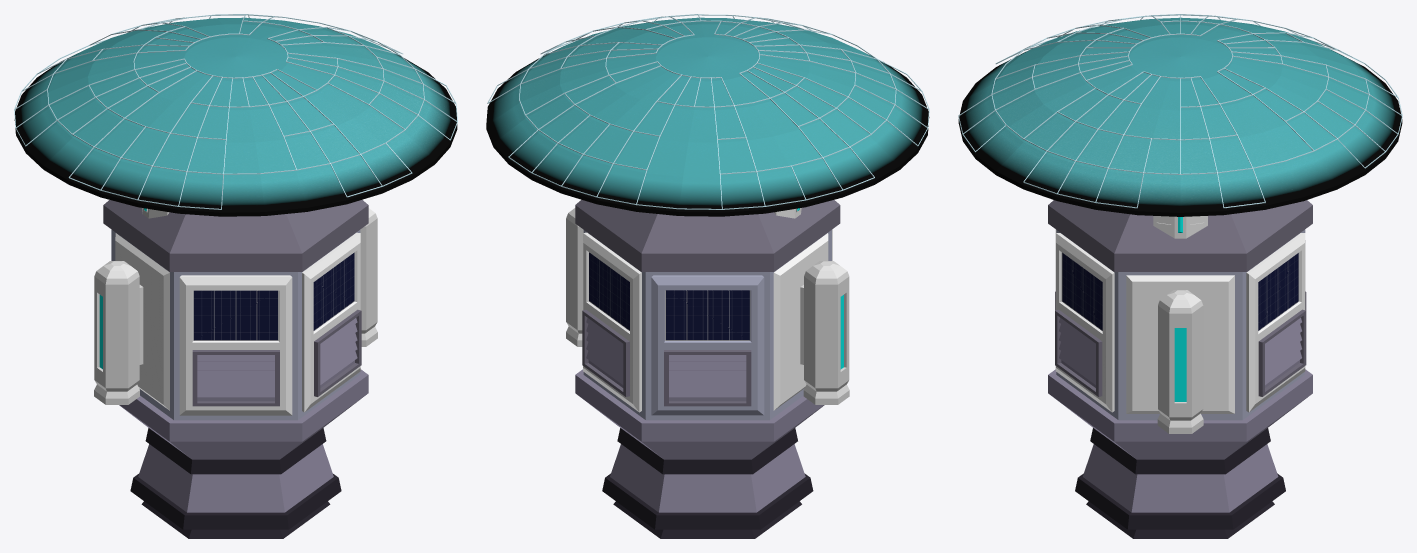
File: защитник.fbx
The picture shows the model from 3 angles, left to right: view 1: azimuth 30°, elevation 25°; view 2: azimuth 150°, elevation 25°; view 3: azimuth 270°, elevation 25°; orthographic projection.
Parts seen in each view (by area): view 1: спутник защитник; view 2: спутник защитник; view 3: спутник защитник.
Part boxes in pixels (x1,y1,x2,y2): спутник защитник: (14, 14, 457, 538); спутник защитник: (486, 14, 929, 538); спутник защитник: (958, 14, 1402, 538).
Size of the model in its own units: 786 by 877 by 788.
